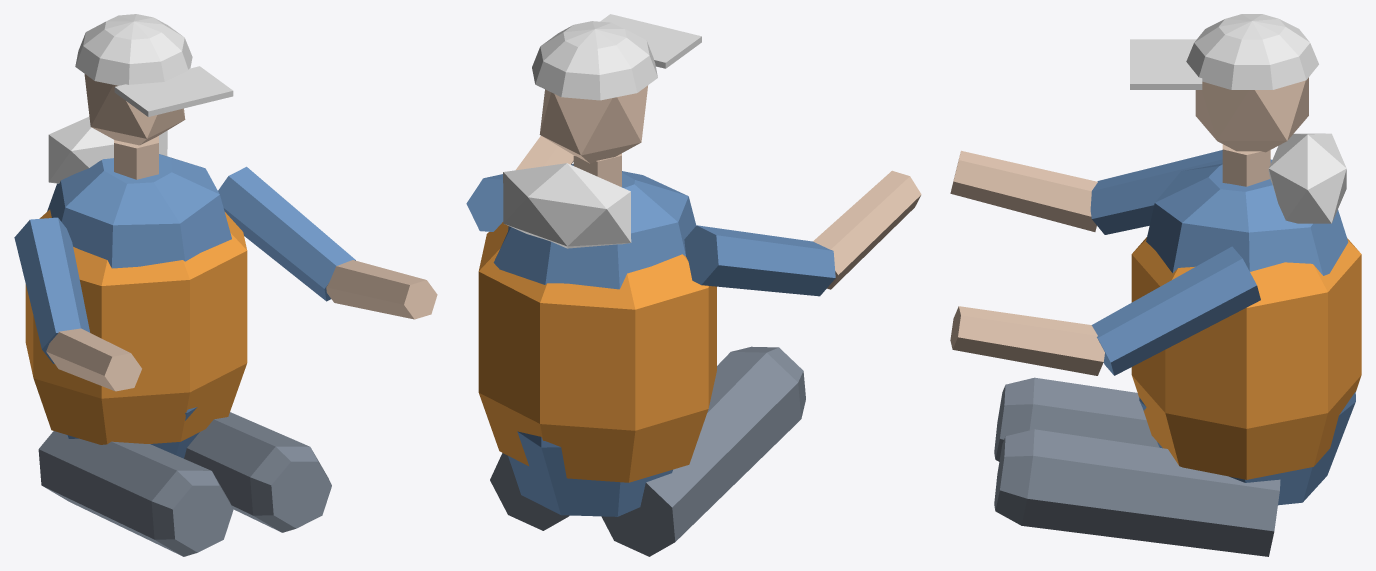
Rendered from kayaker.glb.
3 views of the same model, side by side, from view 1: azimuth 30°, elevation 25°; view 2: azimuth 150°, elevation 25°; view 3: azimuth 270°, elevation 25° (orthographic). The views are drawn at different scales.
Visible parts, largest first — view 1: Kayaker_pfd, Kayaker_torso, Kayaker_thigh, Kayaker_thigh.001, Kayaker_uarm.001, Kayaker_cap, Kayaker_uarm, Kayaker_larm.001, Kayaker_larm, Kayaker_head, Kayaker_bill, Kayaker_hood (+1 smaller); view 2: Kayaker_pfd, Kayaker_thigh, Kayaker_torso, Kayaker_hood, Kayaker_uarm, Kayaker_cap, Kayaker_head, Kayaker_larm, Kayaker_thigh.001, Kayaker_bill, Kayaker_uarm.001, Kayaker_larm.001 (+1 smaller); view 3: Kayaker_pfd, Kayaker_thigh.001, Kayaker_torso, Kayaker_uarm.001, Kayaker_thigh, Kayaker_cap, Kayaker_larm.001, Kayaker_larm, Kayaker_head, Kayaker_hood, Kayaker_uarm, Kayaker_bill (+1 smaller).
Boxes of the visible parts, box(x1,y1,x2,y2) form: Kayaker_pfd: box(25, 209, 247, 444); Kayaker_torso: box(47, 154, 231, 458); Kayaker_thigh: box(38, 431, 233, 556); Kayaker_thigh.001: box(184, 412, 331, 532); Kayaker_uarm.001: box(218, 166, 355, 301); Kayaker_cap: box(75, 14, 192, 85); Kayaker_uarm: box(14, 217, 90, 363); Kayaker_larm.001: box(326, 260, 437, 319); Kayaker_larm: box(46, 328, 141, 391); Kayaker_head: box(84, 74, 185, 145); Kayaker_bill: box(114, 66, 233, 116); Kayaker_hood: box(48, 117, 167, 183); Kayaker_pfd: box(478, 222, 716, 482); Kayaker_thigh: box(601, 346, 805, 556); Kayaker_torso: box(493, 164, 696, 516); Kayaker_hood: box(503, 163, 631, 248); Kayaker_uarm: box(684, 225, 835, 296); Kayaker_cap: box(532, 21, 657, 100); Kayaker_head: box(539, 85, 647, 163); Kayaker_larm: box(813, 170, 921, 289); Kayaker_thigh.001: box(490, 453, 569, 530); Kayaker_bill: box(600, 14, 701, 68); Kayaker_uarm.001: box(466, 174, 503, 231); Kayaker_larm.001: box(516, 136, 573, 170); Kayaker_pfd: box(1131, 237, 1361, 479); Kayaker_thigh.001: box(994, 429, 1280, 556); Kayaker_torso: box(1139, 159, 1355, 505); Kayaker_uarm.001: box(1091, 246, 1260, 375); Kayaker_thigh: box(994, 377, 1159, 461); Kayaker_cap: box(1186, 14, 1318, 89); Kayaker_larm.001: box(950, 306, 1104, 375); Kayaker_larm: box(950, 150, 1097, 231); Kayaker_head: box(1195, 77, 1308, 152); Kayaker_hood: box(1268, 133, 1346, 223); Kayaker_uarm: box(1090, 150, 1222, 234); Kayaker_bill: box(1130, 39, 1202, 89).
Bounding box in the file's own units: 0.7433 × 1.01 × 0.7405.
